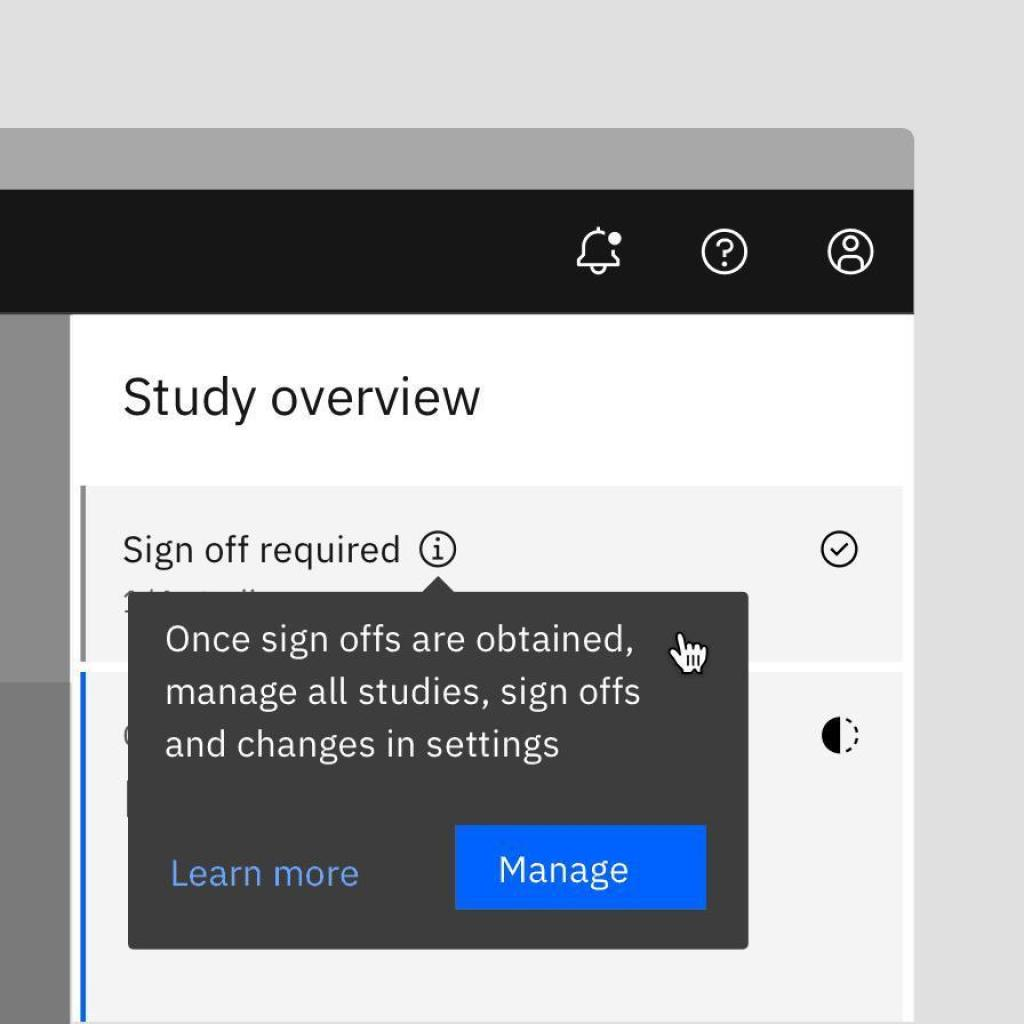button: (451, 825, 710, 912)
icon: (573, 224, 625, 275), (700, 228, 751, 276), (828, 228, 876, 274), (819, 714, 864, 758), (416, 527, 459, 570)
label: (164, 857, 362, 896)
radio: (818, 530, 863, 570)
